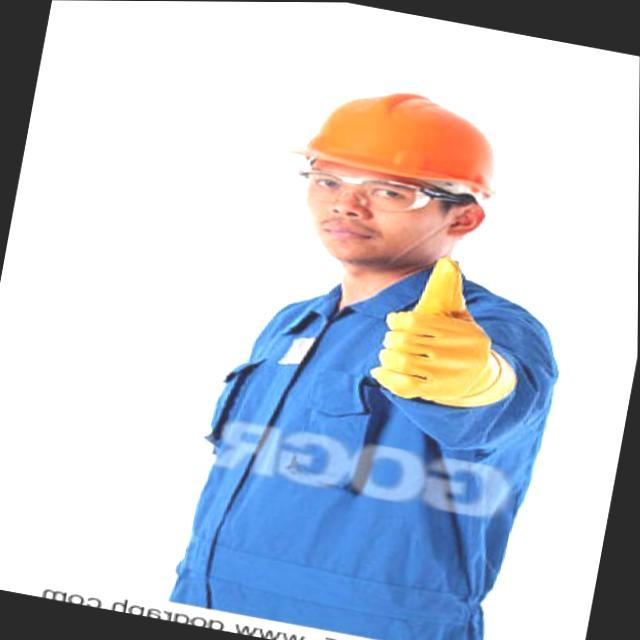goggles_on: (292, 166, 494, 216)
